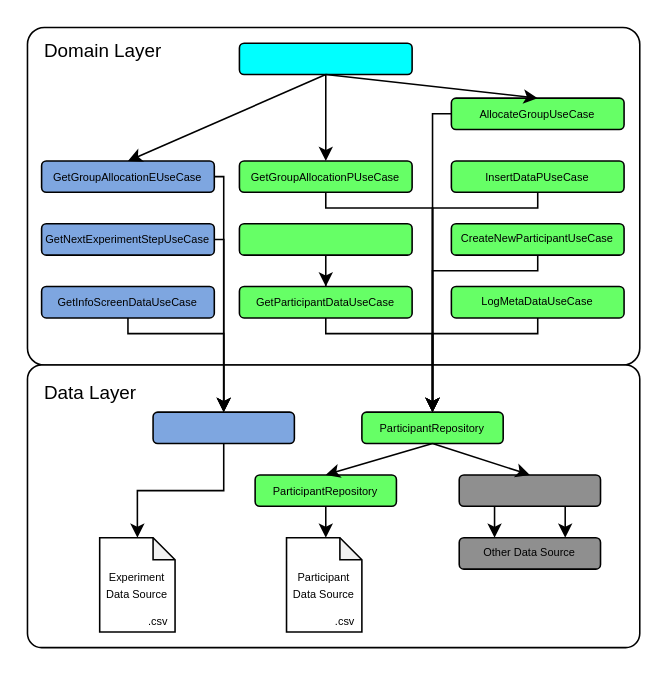
The diagram is 667 pixels wide and 675 high, and some of its shapes have lost their labels. The shapes that lost their labels are listed below. From the top down, each one's centre as x and y in pixels, then its label:
[325,58]: AllocateGroupsUseCase
[325,238]: GetNextDataEntryUseCase
[223,427]: ExperimentRepository
[529,489]: OtherRepository
